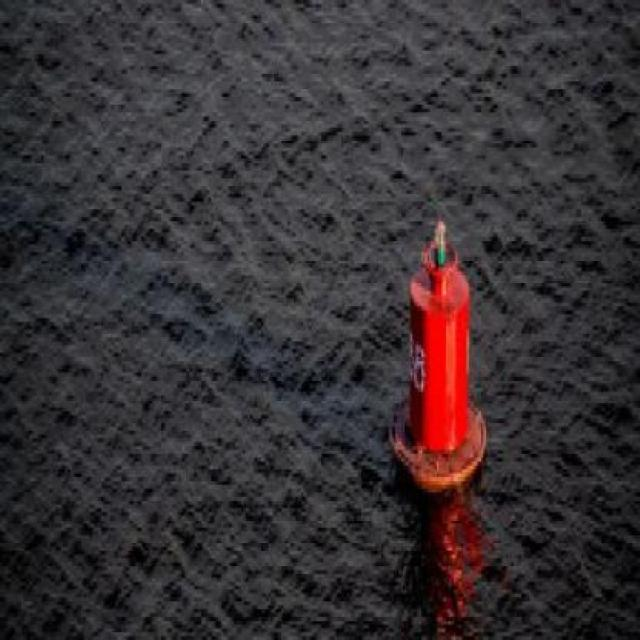buoy: (385, 199, 496, 510)
